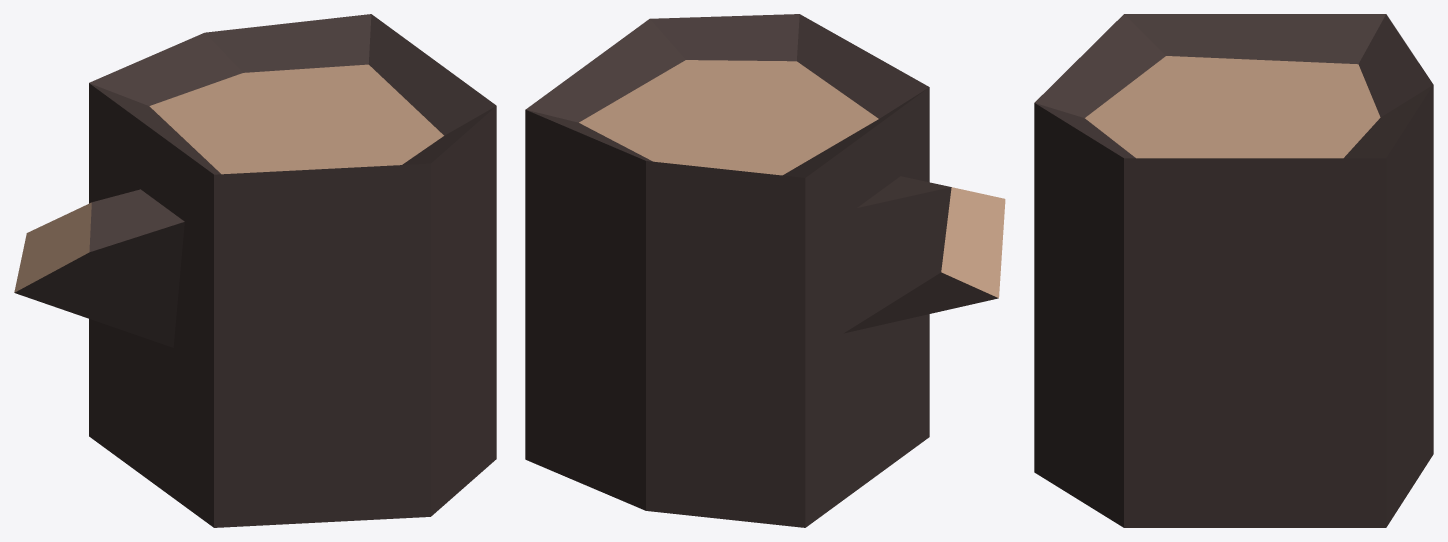
File: tree_trunk1.fbx
The picture shows the model from 3 angles, left to right: view 1: azimuth 30°, elevation 25°; view 2: azimuth 150°, elevation 25°; view 3: azimuth 270°, elevation 25°; orthographic projection. The views are drawn at different scales.
Visible parts, largest first — view 1: tree_trunk1; view 2: tree_trunk1; view 3: tree_trunk1.
Part boxes in pixels (x1,y1,x2,y2): tree_trunk1: (14,14,496,527); tree_trunk1: (525,14,1005,527); tree_trunk1: (1034,14,1433,527).
Bounding box in the file's own units: 1.92 × 1.56 × 1.52.
